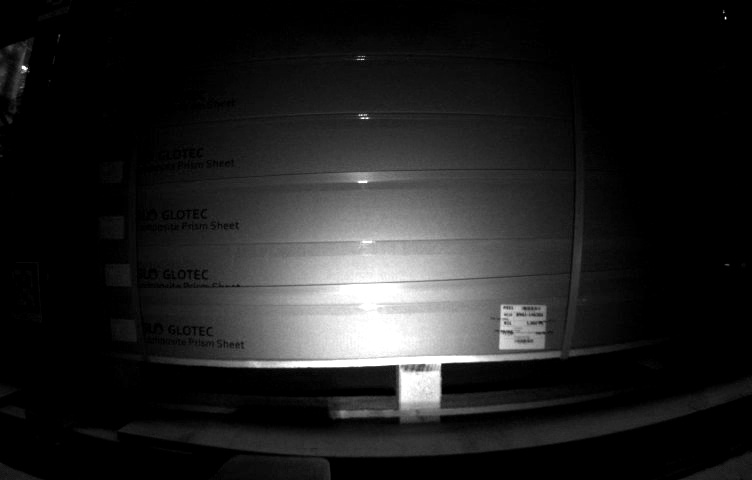True Barcode: (496, 300, 546, 352)
